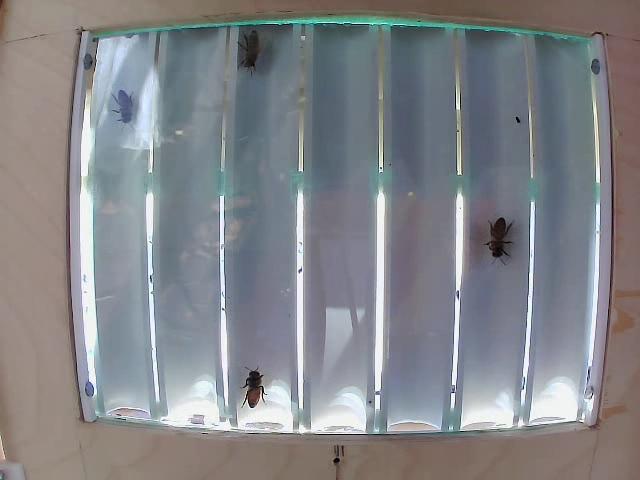bee: (477, 203, 525, 264), (226, 367, 278, 414), (113, 94, 155, 133), (241, 32, 279, 69)
